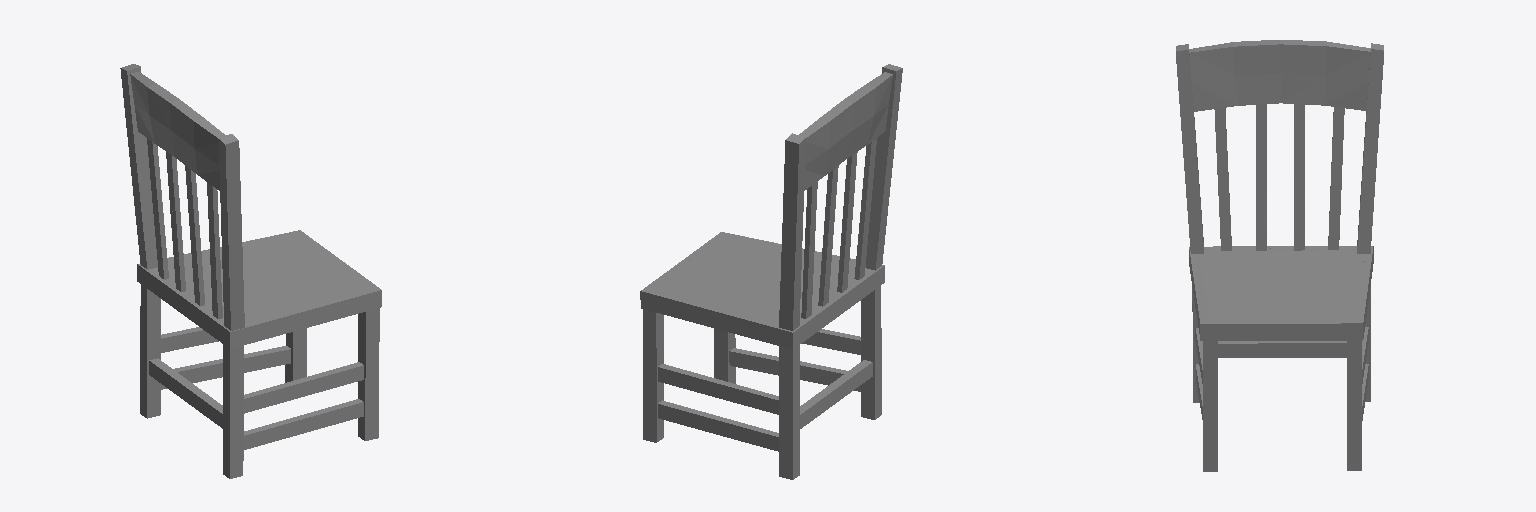
Rendered from chair.obj.
3 renders of one model, left to right at view 1: azimuth 30°, elevation 25°; view 2: azimuth 150°, elevation 25°; view 3: azimuth 270°, elevation 25°, orthographic.
Parts seen in each view (by area): view 1: default; view 2: default; view 3: default.
Part boxes in pixels (x1,y1,x2,y2): default: (120, 64, 381, 478); default: (640, 64, 902, 479); default: (1176, 40, 1383, 471).
Size of the model in its own units: 1.18 by 2.28 by 1.24.